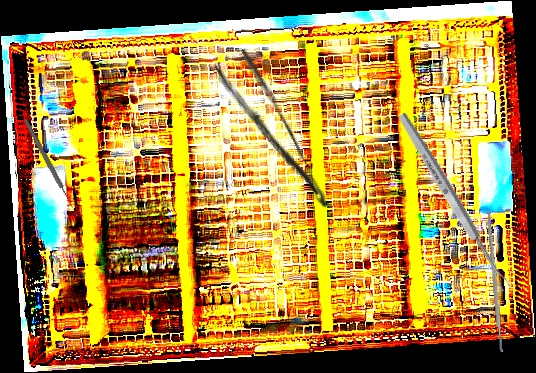Dressing Forceps: (210, 46, 333, 224)
Scalpel Handle: (485, 209, 504, 353)
Surgical Spoon: (395, 110, 513, 294), (22, 118, 80, 218)
